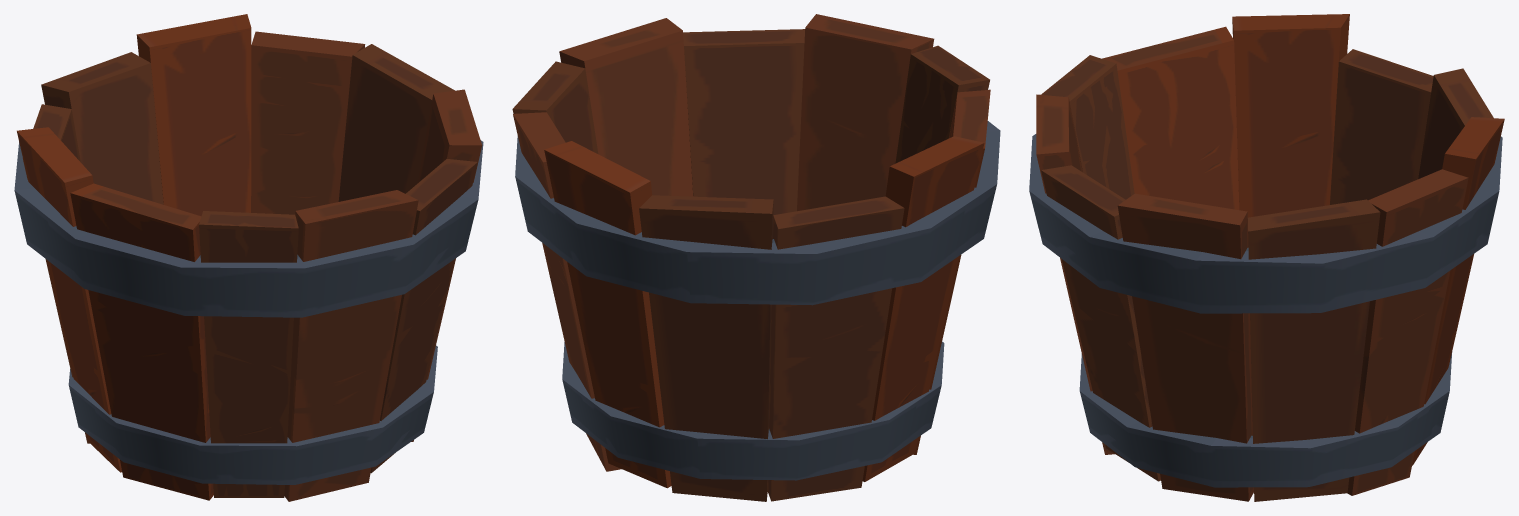
The model's file is Bucket1.fbx.
The picture shows the model from 3 angles, left to right: view 1: azimuth 30°, elevation 25°; view 2: azimuth 150°, elevation 25°; view 3: azimuth 270°, elevation 25°; orthographic projection. The views are drawn at different scales.
Visible parts, largest first — view 1: Bucket; view 2: Bucket; view 3: Bucket.
Part boxes in pixels (bbox=[...]): Bucket: bbox=[14, 14, 483, 501]; Bucket: bbox=[512, 14, 1000, 501]; Bucket: bbox=[1029, 14, 1504, 501].
Size of the model in its own units: 85.63 by 65.95 by 85.68.
Materials: 3 (3 with a texture image).
